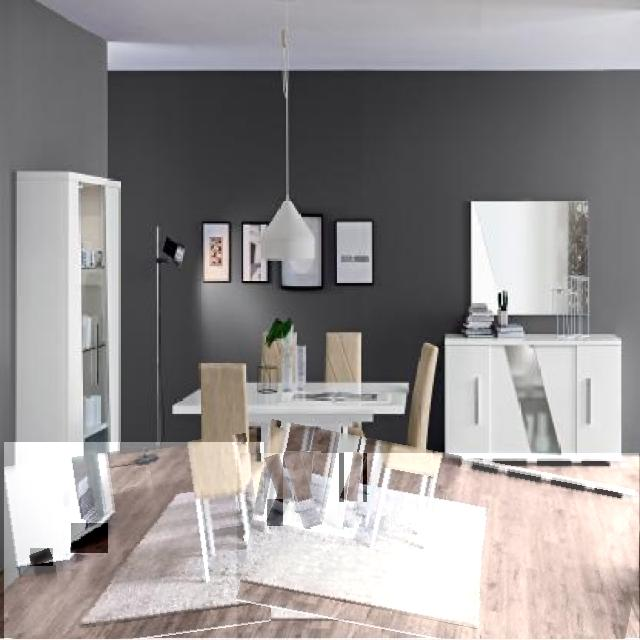floor: (237, 453, 640, 640), (5, 442, 264, 640), (284, 452, 321, 528), (344, 452, 363, 528), (264, 454, 293, 502), (339, 453, 367, 502), (71, 523, 108, 553), (295, 453, 315, 500), (267, 499, 290, 526), (30, 549, 53, 566), (296, 500, 311, 514)
